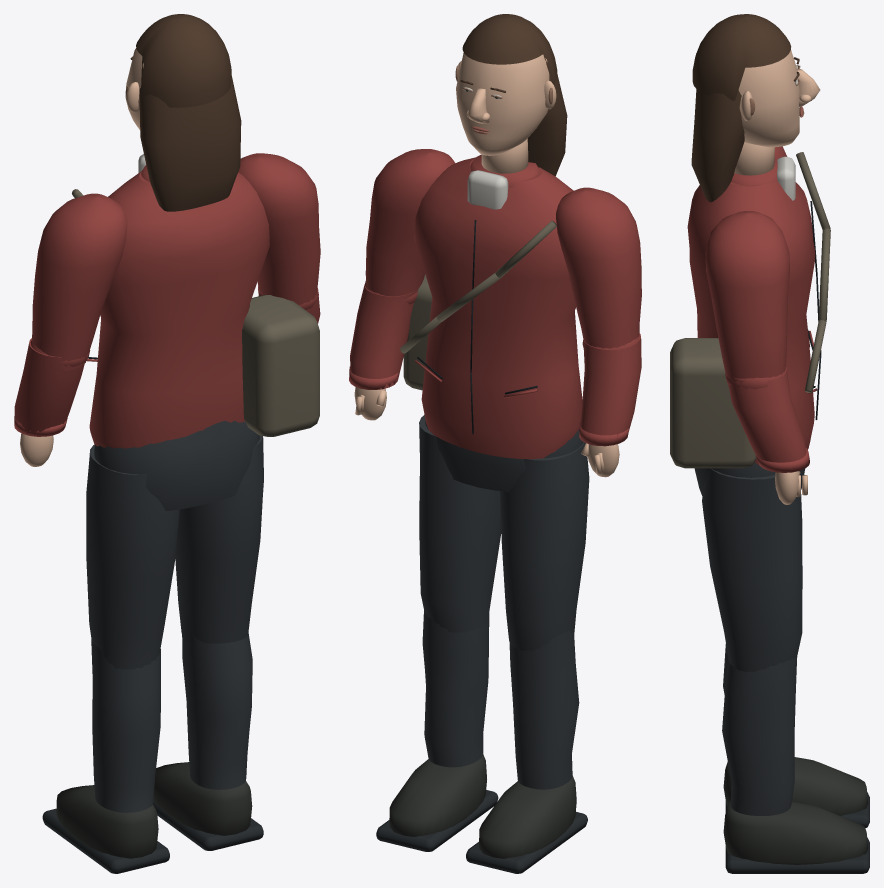
The model's file is pedestrian_2.glb.
3 views of the same model, side by side, from view 1: azimuth 30°, elevation 25°; view 2: azimuth 150°, elevation 25°; view 3: azimuth 270°, elevation 25° (orthographic). The views are drawn at different scales.
Parts seen in each view (by area): view 1: torso_Coat fabric, head_Detailed human vertex surfaces, leg_L_Denim trousers, leg_R_Denim trousers, arm_L_Coat fabric, torso_Detailed human vertex surfaces, knee_L_Denim trousers, knee_R_Denim trousers, torso_Denim trousers, arm_R_Coat fabric, knee_L_Detailed human vertex surfaces, knee_R_Detailed human vertex surfaces (+2 smaller); view 2: torso_Coat fabric, leg_L_Denim trousers, head_Detailed human vertex surfaces, leg_R_Denim trousers, arm_L_Coat fabric, knee_L_Denim trousers, knee_R_Denim trousers, arm_R_Coat fabric, knee_R_Detailed human vertex surfaces, knee_L_Detailed human vertex surfaces, elbow_L_Coat fabric, torso_Detailed human vertex surfaces (+4 smaller); view 3: leg_R_Denim trousers, head_Detailed human vertex surfaces, arm_R_Coat fabric, torso_Detailed human vertex surfaces, torso_Coat fabric, knee_R_Denim trousers, knee_R_Detailed human vertex surfaces, elbow_R_Coat fabric, knee_L_Detailed human vertex surfaces, elbow_R_Detailed human vertex surfaces, torso_Denim trousers.
Part boxes in pixels (x1,y1,x2,y2): torso_Coat fabric: (86, 165, 269, 448); head_Detailed human vertex surfaces: (125, 14, 241, 211); leg_L_Denim trousers: (86, 445, 179, 669); leg_R_Denim trousers: (175, 435, 263, 643); arm_L_Coat fabric: (32, 193, 127, 370); torso_Detailed human vertex surfaces: (72, 154, 319, 436); knee_L_Denim trousers: (91, 638, 160, 812); knee_R_Denim trousers: (182, 629, 252, 789); torso_Denim trousers: (94, 420, 260, 511); arm_R_Coat fabric: (238, 153, 320, 311); knee_L_Detailed human vertex surfaces: (42, 785, 169, 873); knee_R_Detailed human vertex surfaces: (153, 762, 263, 850); torso_Coat fabric: (414, 154, 582, 459); leg_L_Denim trousers: (500, 442, 589, 651); head_Detailed human vertex surfaces: (455, 14, 567, 176); leg_R_Denim trousers: (419, 415, 501, 632); arm_L_Coat fabric: (556, 187, 641, 348); knee_L_Denim trousers: (509, 631, 579, 789); knee_R_Denim trousers: (422, 609, 489, 767); arm_R_Coat fabric: (365, 149, 455, 305); knee_R_Detailed human vertex surfaces: (376, 754, 498, 851); knee_L_Detailed human vertex surfaces: (466, 776, 587, 873); elbow_L_Coat fabric: (579, 333, 641, 446); torso_Detailed human vertex surfaces: (400, 170, 556, 434); leg_R_Denim trousers: (702, 468, 802, 672); head_Detailed human vertex surfaces: (691, 14, 820, 202); arm_R_Coat fabric: (705, 211, 789, 387); torso_Detailed human vertex surfaces: (670, 152, 830, 468); torso_Coat fabric: (687, 158, 817, 464); knee_R_Denim trousers: (722, 656, 797, 815); knee_R_Detailed human vertex surfaces: (723, 801, 869, 873); elbow_R_Coat fabric: (725, 367, 809, 472); knee_L_Detailed human vertex surfaces: (723, 757, 869, 827); elbow_R_Detailed human vertex surfaces: (775, 471, 807, 504); torso_Denim trousers: (694, 462, 804, 495).
Size of the model in its own units: 0.6084 by 1.68 by 0.3696.
